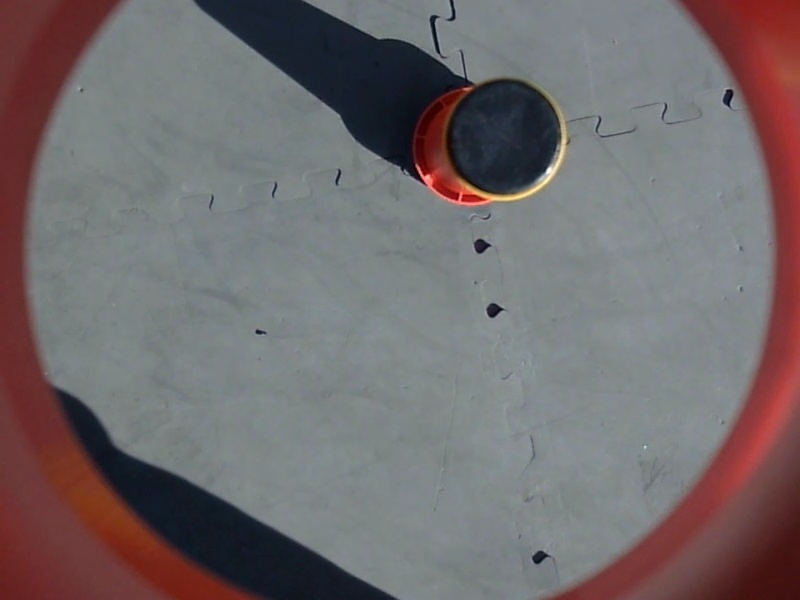tip: (445, 75, 572, 204)
